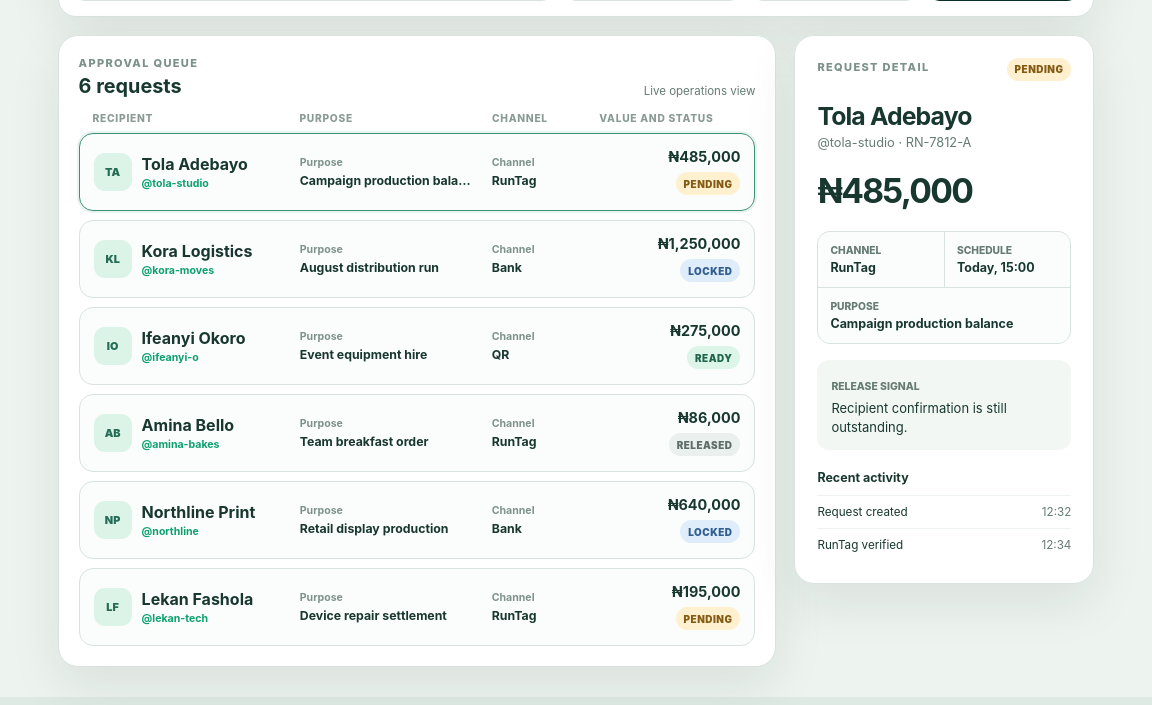
it: RunNaira operations › opens the selected request detail
(page scrolled)
Click the button "Ifeanyi Okoro". click: (417, 346)
box: [79, 307, 755, 385]
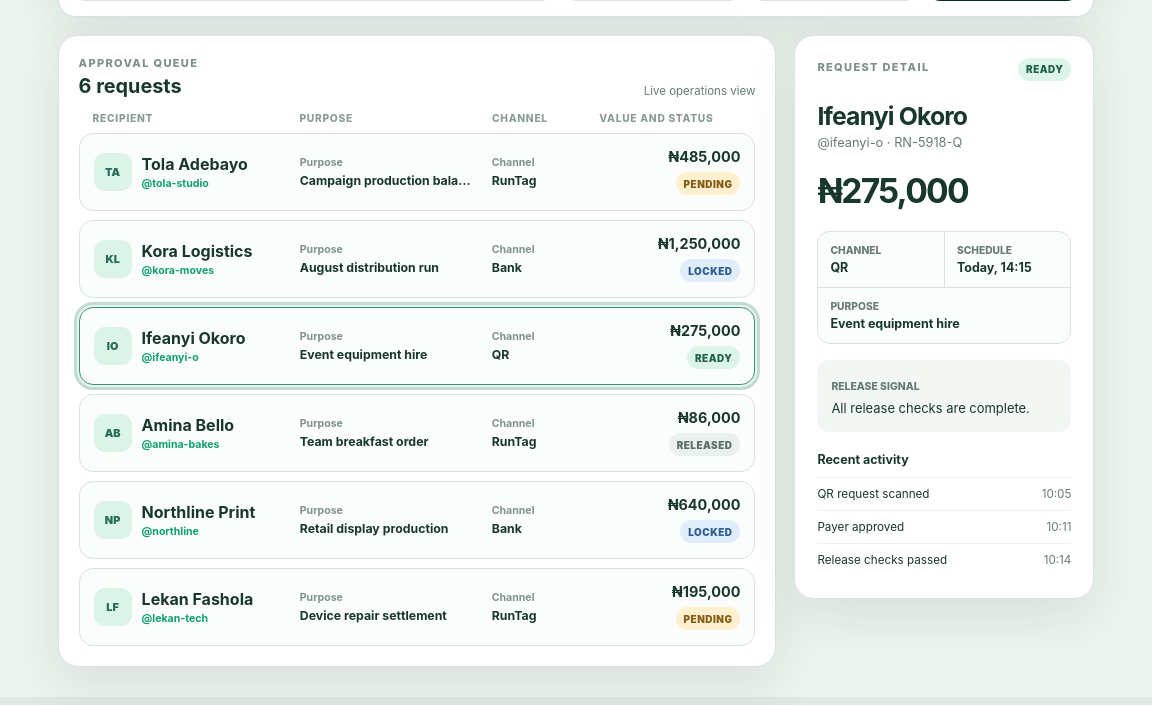
Check: the text "All release checks are complete." is shown, box [831, 399, 1057, 418]
